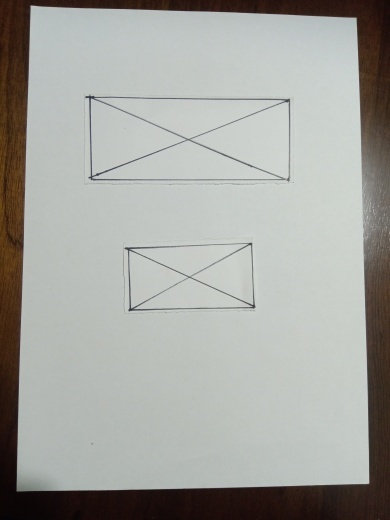img: (86, 94, 291, 179), (125, 249, 252, 314)
